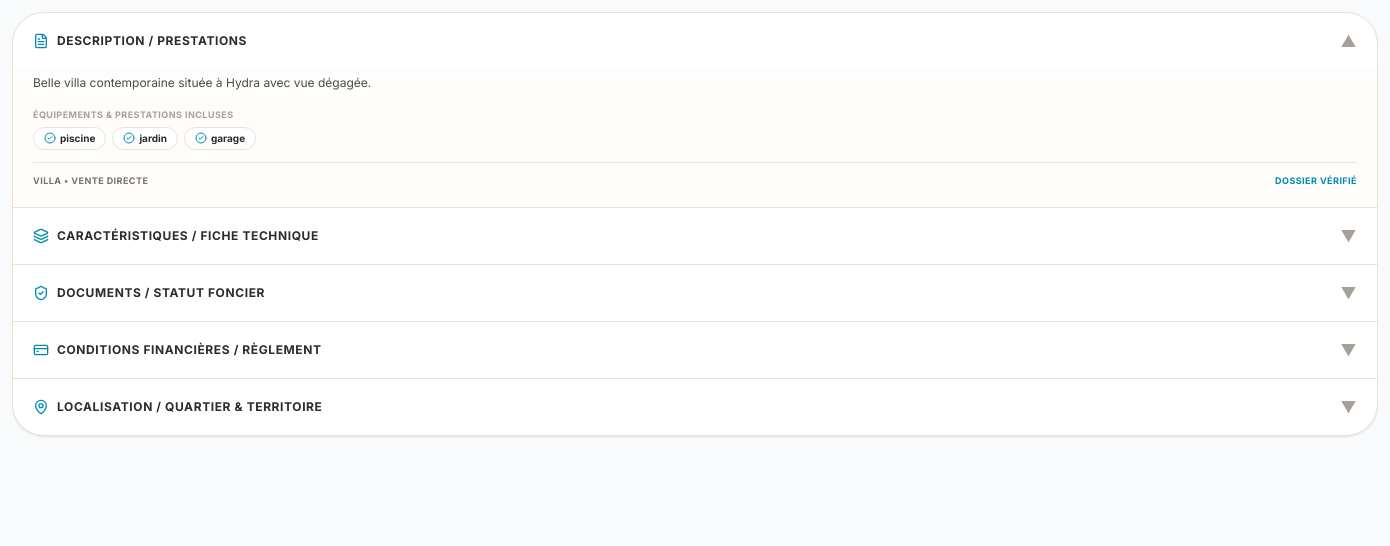
Test: Olma Immo — Property Detail Merchandise Accordion Pattern › has initial open section and allows toggling to another section
The image size is (1390, 546).
Note: Click specs to open it
Step 1. Click the button "Caractéristiques / fiche technique ▼" → (188, 235), box left=13, top=208, right=1377, bottom=264
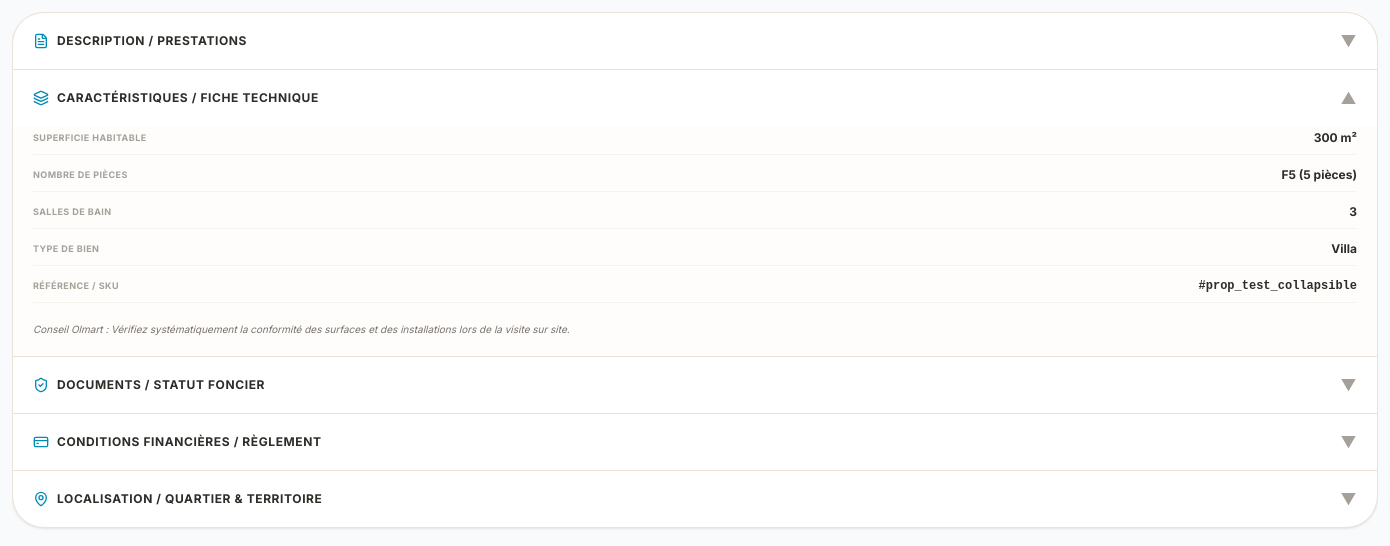
Now the text "Superficie Habitable" is shown, box left=33, top=132, right=147, bottom=144
Now the text "300 m²" is shown, box left=1314, top=130, right=1357, bottom=146
